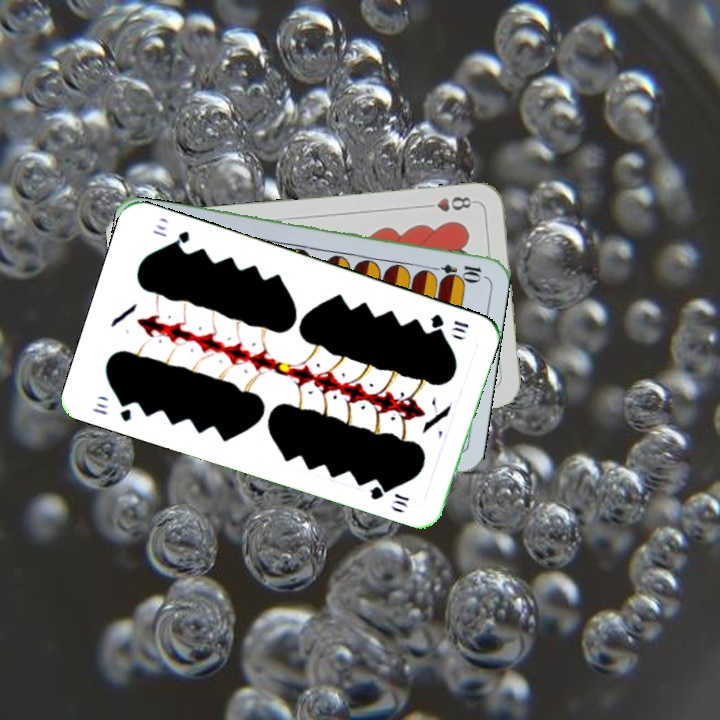E10: (425, 259, 484, 282)
G10: (88, 395, 135, 424), (427, 310, 471, 337)
H8: (419, 192, 478, 214)
